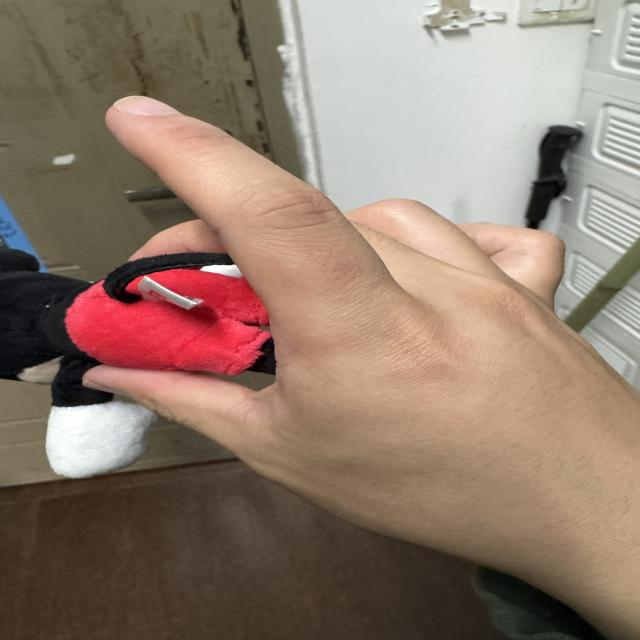mickey: (0, 247, 275, 477)
